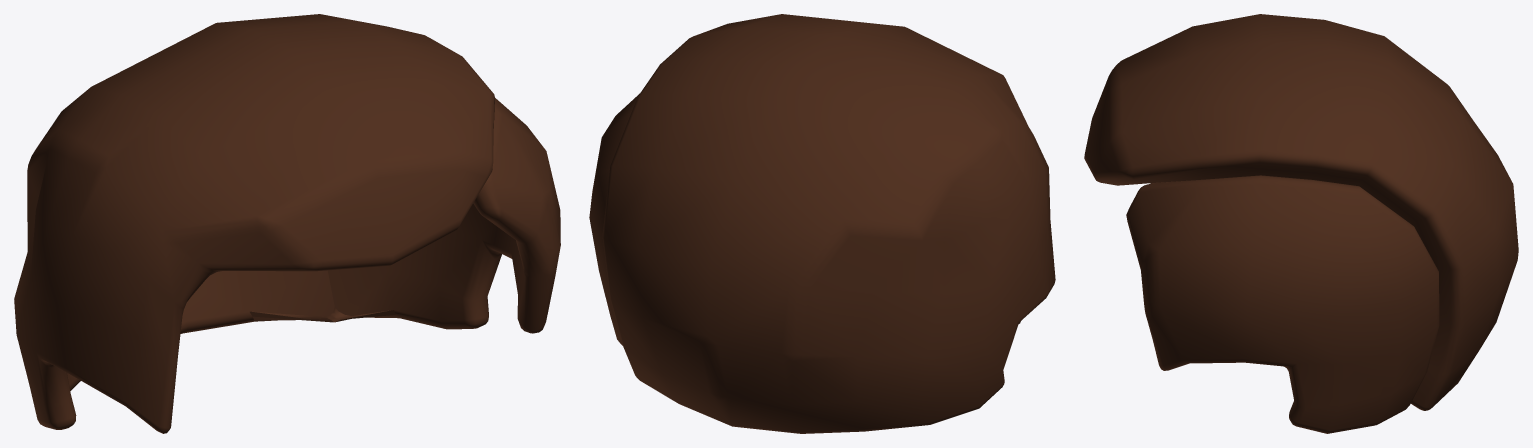
The picture shows the model from 3 angles, left to right: view 1: azimuth 30°, elevation 25°; view 2: azimuth 150°, elevation 25°; view 3: azimuth 270°, elevation 25°; orthographic projection. The views are drawn at different scales.
Visible parts, largest first — view 1: hairShortSideParting; view 2: hairShortSideParting; view 3: hairShortSideParting.
Boxes of the visible parts, bbox=[...] form: hairShortSideParting: bbox=[14, 14, 560, 433]; hairShortSideParting: bbox=[589, 14, 1055, 433]; hairShortSideParting: bbox=[1084, 14, 1518, 433].
Size of the model in its own units: 0.5134 by 0.3759 by 0.4651.
1 material, 1 textured.
